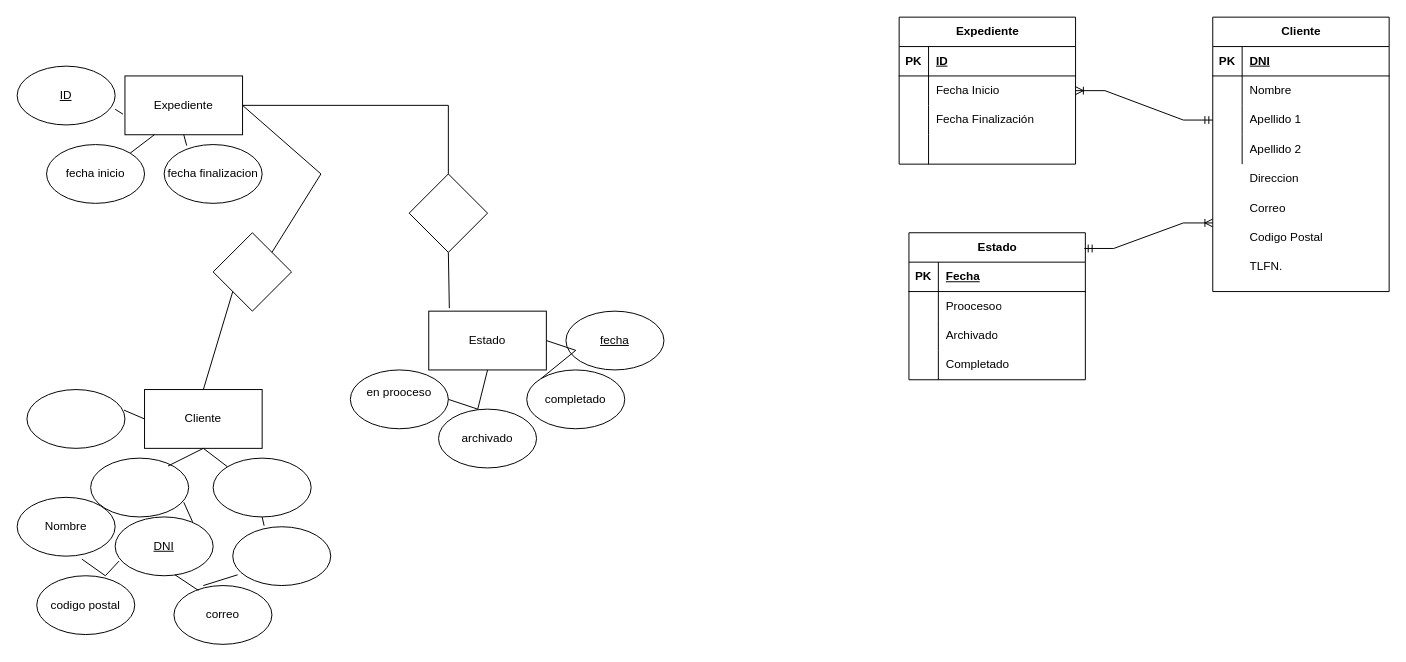
Image size: 1406x662. Some labels were removed from this diagram. Each missing label, with the centre of its shape:
"Apellido1" goes at pixel 75 418.
"Apellido2" goes at pixel 261 487.
"direccioon" goes at pixel 139 487.
"PASAR" goes at pixel 448 212.
"PERTENECER" goes at pixel 252 271.
"tlfn" goes at pixel 281 556.
